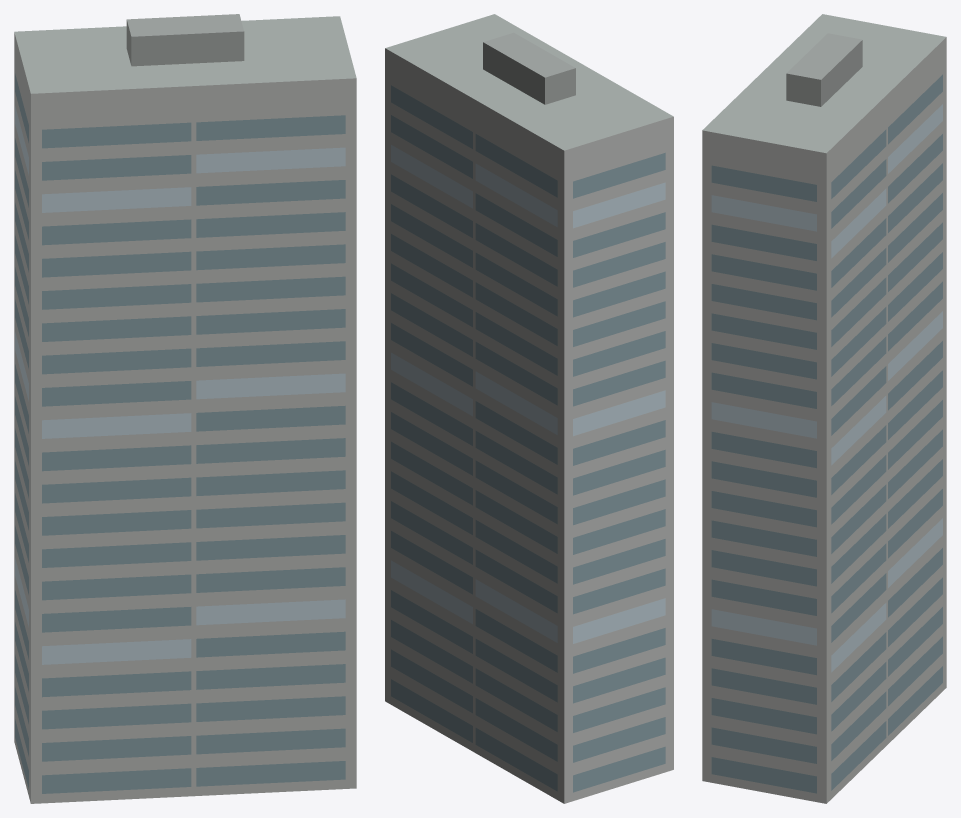
The model's file is fallback-jamsil-els-160.glb.
3 renders of one model, left to right at view 1: azimuth 30°, elevation 25°; view 2: azimuth 150°, elevation 25°; view 3: azimuth 270°, elevation 25°, orthographic. The views are drawn at different scales.
Visible parts, largest first — view 1: fallback-jamsil-els-160; view 2: fallback-jamsil-els-160; view 3: fallback-jamsil-els-160.
Boxes of the visible parts, x1,y1,x2,y2 form: fallback-jamsil-els-160: (14,14,356,803); fallback-jamsil-els-160: (385,14,673,803); fallback-jamsil-els-160: (702,14,946,803).
Size of the model in its own units: 26.45 by 60 by 19.61.
